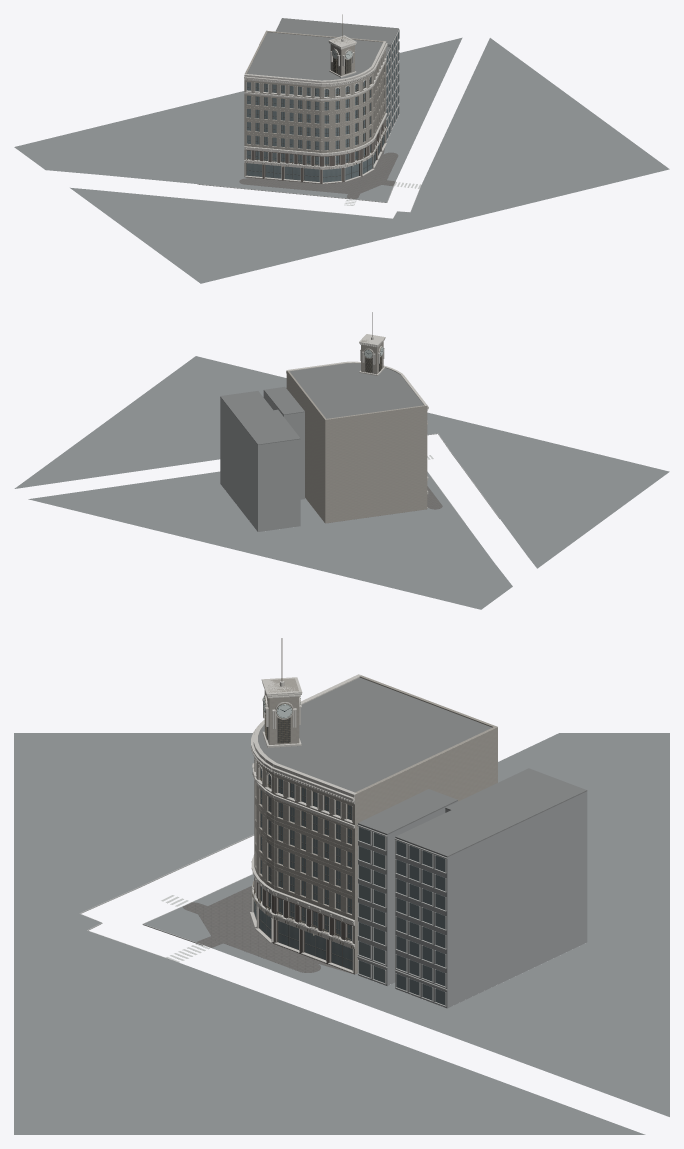
3 views of the same model, one above another, from view 1: azimuth 30°, elevation 25°; view 2: azimuth 150°, elevation 25°; view 3: azimuth 270°, elevation 25° (orthographic). The views are drawn at different scales.
Parts seen in each view (by area): view 1: Context_wako-context-ground, WakoRoof_wako-roof, WakoWingHarumiUpper_wako-upper-granite, WakoCornerUpper_wako-upper-granite, WakoWingHarumiUpper_wako-glass, ContextBuilding_103509466_wako-roof, Ground_wako-paving, WakoWingHarumiGround_wako-ground-glass, WakoWingHarumiGround_wako-trim, WakoWingHarumiUpper_wako-trim, WakoCornerGround_wako-trim, WakoCornerUpper_wako-glass (+13 smaller); view 2: Context_wako-context-ground, WakoRear_wako-upper-granite, ContextBuilding_103509466_wako-context, WakoRoof_wako-roof, ContextBuilding_103509466_wako-roof, ContextBuilding_449618283_wako-context, ContextBuilding_449618283_wako-roof, WakoTower_wako-trim; view 3: Context_wako-context-ground, ContextBuilding_103509466_wako-context, WakoRoof_wako-roof, WakoRear_wako-upper-granite, ContextBuilding_103509466_wako-roof, WakoWingChuoUpper_wako-upper-granite, ContextBuilding_103509466_wako-context-glass, ContextBuilding_449618283_wako-context, Ground_wako-paving, ContextBuilding_103509466_wako-curb, ContextBuilding_449618283_wako-context-glass, WakoWingChuoUpper_wako-glass (+14 smaller).
Boxes of the visible parts, x1=… form: Context_wako-context-ground: x1=14, y1=37, x2=669, y2=283; WakoRoof_wako-roof: x1=247, y1=32, x2=382, y2=80; WakoWingHarumiUpper_wako-upper-granite: x1=246, y1=80, x2=321, y2=152; WakoCornerUpper_wako-upper-granite: x1=321, y1=73, x2=373, y2=152; WakoWingHarumiUpper_wako-glass: x1=247, y1=82, x2=319, y2=149; ContextBuilding_103509466_wako-roof: x1=275, y1=18, x2=398, y2=45; Ground_wako-paving: x1=239, y1=152, x2=398, y2=194; WakoWingHarumiGround_wako-ground-glass: x1=246, y1=150, x2=319, y2=181; WakoWingHarumiGround_wako-trim: x1=244, y1=146, x2=321, y2=183; WakoWingHarumiUpper_wako-trim: x1=244, y1=74, x2=321, y2=100; WakoCornerGround_wako-trim: x1=321, y1=138, x2=374, y2=183; WakoCornerUpper_wako-glass: x1=324, y1=77, x2=370, y2=150; Context_wako-context-ground: x1=14, y1=356, x2=669, y2=609; WakoRear_wako-upper-granite: x1=286, y1=370, x2=427, y2=523; ContextBuilding_103509466_wako-context: x1=220, y1=397, x2=300, y2=531; WakoRoof_wako-roof: x1=289, y1=363, x2=423, y2=418; ContextBuilding_103509466_wako-roof: x1=220, y1=391, x2=300, y2=444; ContextBuilding_449618283_wako-context: x1=263, y1=390, x2=304, y2=499; ContextBuilding_449618283_wako-roof: x1=264, y1=386, x2=304, y2=414; WakoTower_wako-trim: x1=359, y1=334, x2=385, y2=375; Context_wako-context-ground: x1=14, y1=733, x2=669, y2=1134; ContextBuilding_103509466_wako-context: x1=395, y1=791, x2=587, y2=1008; WakoRoof_wako-roof: x1=258, y1=677, x2=491, y2=792; WakoRear_wako-upper-granite: x1=352, y1=675, x2=497, y2=974; ContextBuilding_103509466_wako-roof: x1=395, y1=768, x2=587, y2=857; WakoWingChuoUpper_wako-upper-granite: x1=274, y1=774, x2=352, y2=918; ContextBuilding_103509466_wako-context-glass: x1=396, y1=840, x2=445, y2=1005; ContextBuilding_449618283_wako-context: x1=358, y1=801, x2=457, y2=985; Ground_wako-paving: x1=196, y1=886, x2=320, y2=972; ContextBuilding_103509466_wako-curb: x1=394, y1=838, x2=447, y2=1006; ContextBuilding_449618283_wako-context-glass: x1=359, y1=827, x2=385, y2=982; WakoWingChuoUpper_wako-glass: x1=279, y1=779, x2=351, y2=913.
Size of what is drawn, in the model's own units: 145 by 47.59 by 100.
17 materials, 5 textured.
